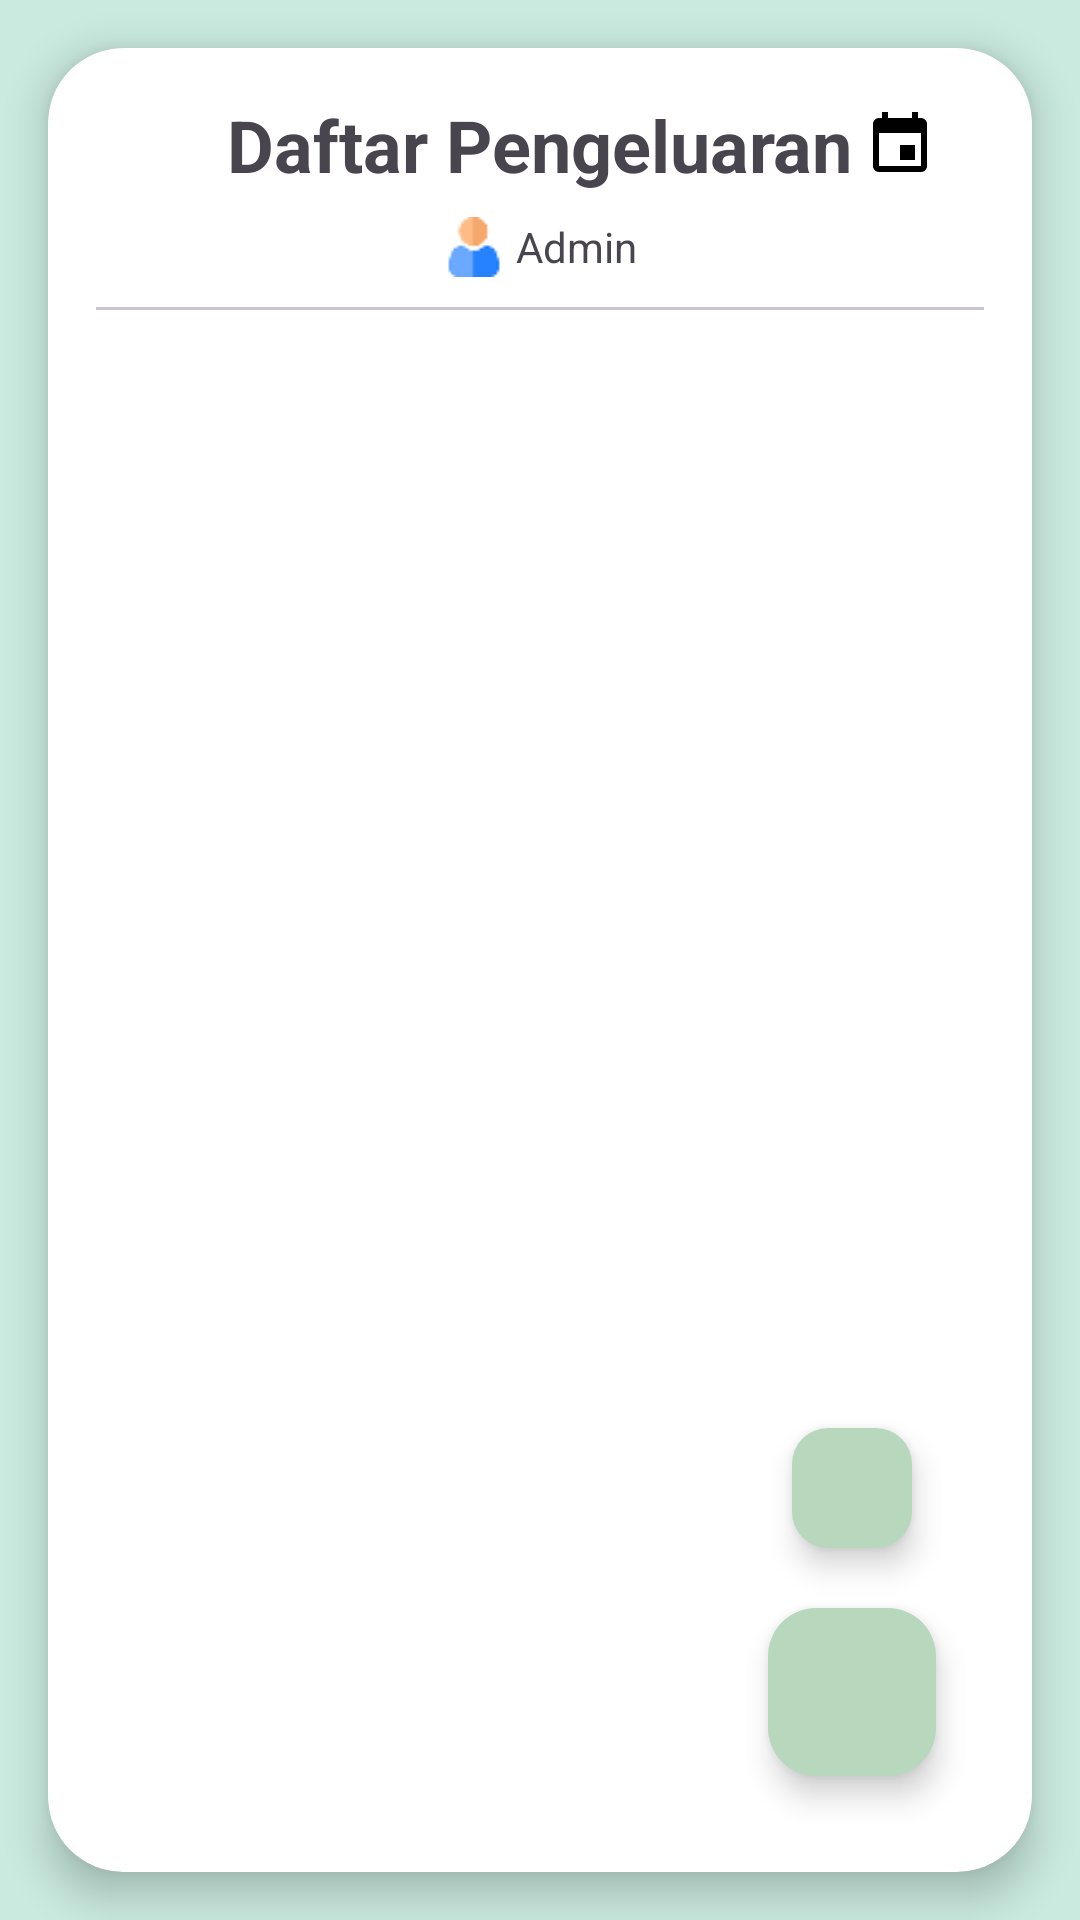

Icons on this 1080 x 1920 Android screen, each with the point to tap as point (x, y):
calendar: point (900, 142)
